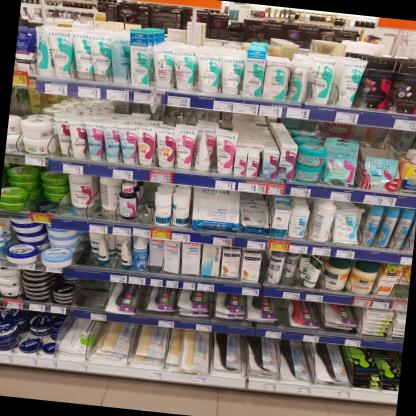empty_space: (353, 124, 401, 191), (69, 279, 110, 309)
